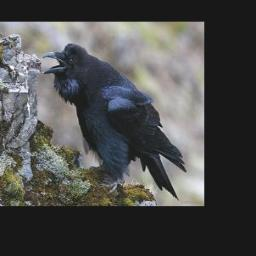Crow: (42, 42, 186, 202)
